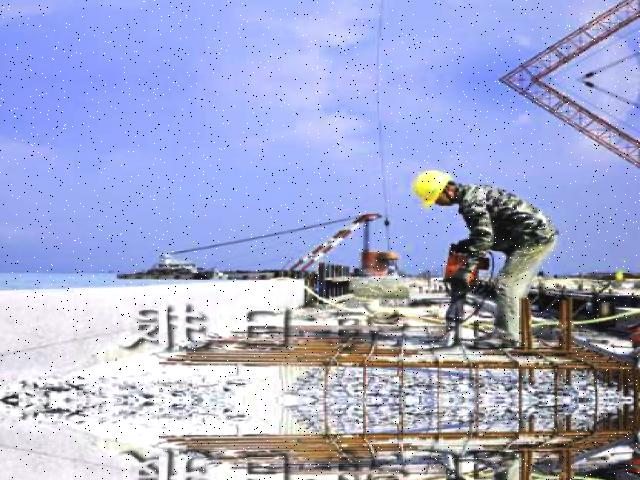Helmet: (408, 166, 458, 211)
